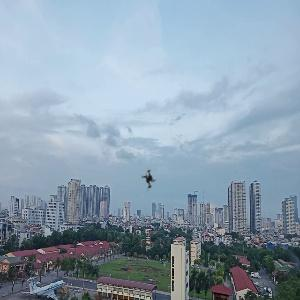drone: (116, 155, 171, 210)
